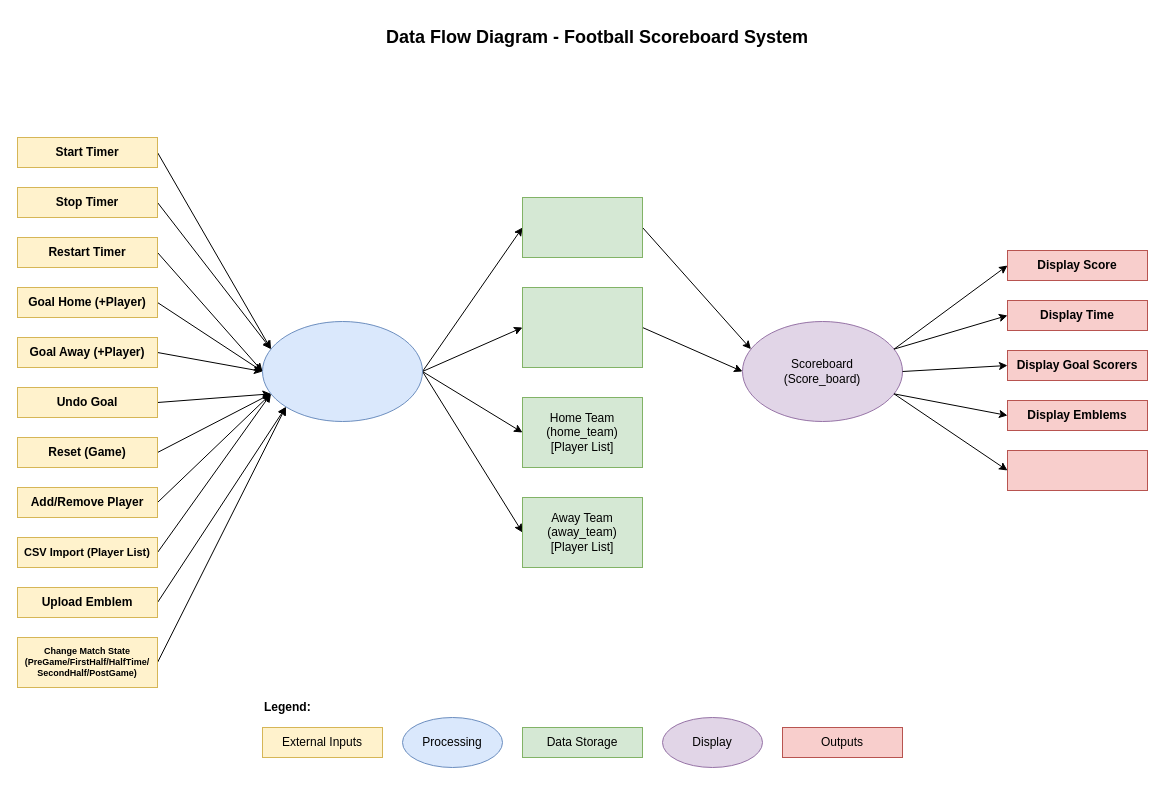
Image size: 1165x785. Some labels were removed from this diagram. Here are the shapes that lost their labels. From the top down, the centre of each, then its label:
At point (582, 227): "Timer (timer)".
At point (582, 327): "Score Memory (score_memory) [Goals, Time, Players]".
At point (342, 371): "Control Window (controll_window)".
At point (1077, 470): "Slideshow (PreGame/HalfTime/PostGame)".
